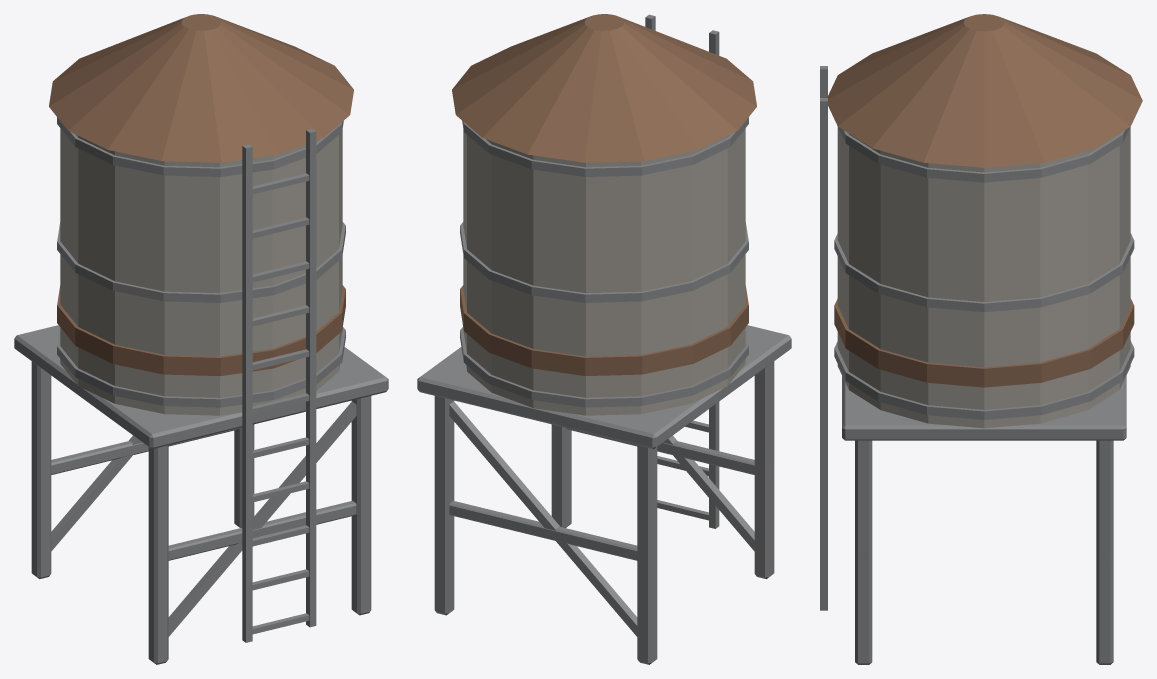
File: roof_tank.glb
The picture shows the model from 3 angles, left to right: view 1: azimuth 30°, elevation 25°; view 2: azimuth 150°, elevation 25°; view 3: azimuth 270°, elevation 25°; orthographic projection. The views are drawn at different scales.
Visible parts, largest first — view 1: roof_tank; view 2: roof_tank; view 3: roof_tank.
Boxes of the visible parts, x1=… form: roof_tank: x1=14, y1=14, x2=388, y2=664; roof_tank: x1=417, y1=14, x2=791, y2=664; roof_tank: x1=820, y1=14, x2=1142, y2=664.
Size of the model in its own units: 1.84 by 3.77 by 1.87.
